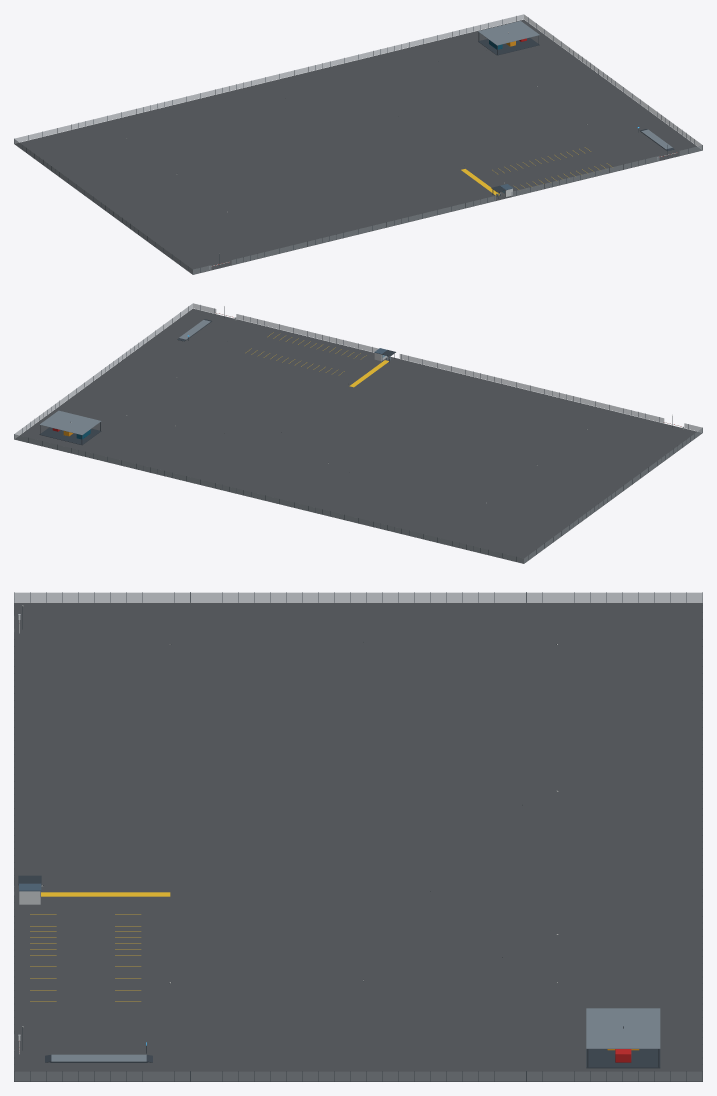
The model's file is site.glb.
3 views of the same model, one above another, from view 1: azimuth 30°, elevation 25°; view 2: azimuth 150°, elevation 25°; view 3: azimuth 270°, elevation 25° (orthographic). The views are drawn at different scales.
Visible parts, largest first — view 1: TERRITORY, FENCE, WASTE; view 2: TERRITORY, FENCE, WASTE; view 3: TERRITORY, FENCE, WASTE, TRUCK-SCALE.
Boxes of the visible parts, x1,y1,x2,y2 form: TERRITORY: [14, 19, 702, 274]; FENCE: [14, 14, 702, 274]; WASTE: [478, 21, 539, 55]; TERRITORY: [14, 308, 702, 563]; FENCE: [14, 303, 702, 563]; WASTE: [39, 410, 101, 445]; TERRITORY: [14, 602, 702, 1081]; FENCE: [14, 592, 702, 1081]; WASTE: [586, 1008, 660, 1068]; TRUCK-SCALE: [45, 1042, 152, 1062].
Size of the model in its own units: 214 by 6.62 by 130.
